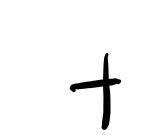plus: (68, 52, 121, 131)
